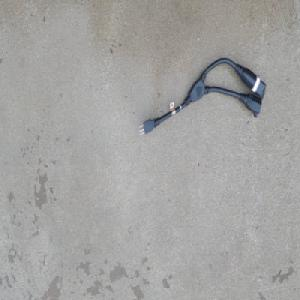Wire: (137, 56, 265, 137)
